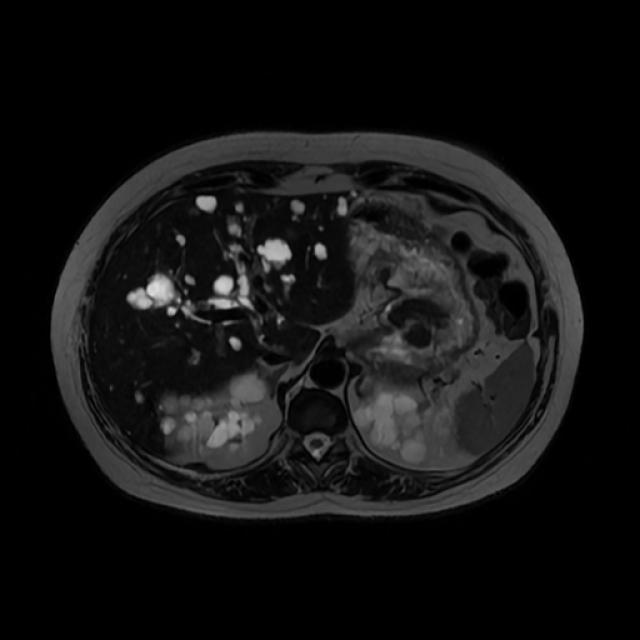sag: (160, 374, 271, 452)
sol: (356, 389, 428, 464)
